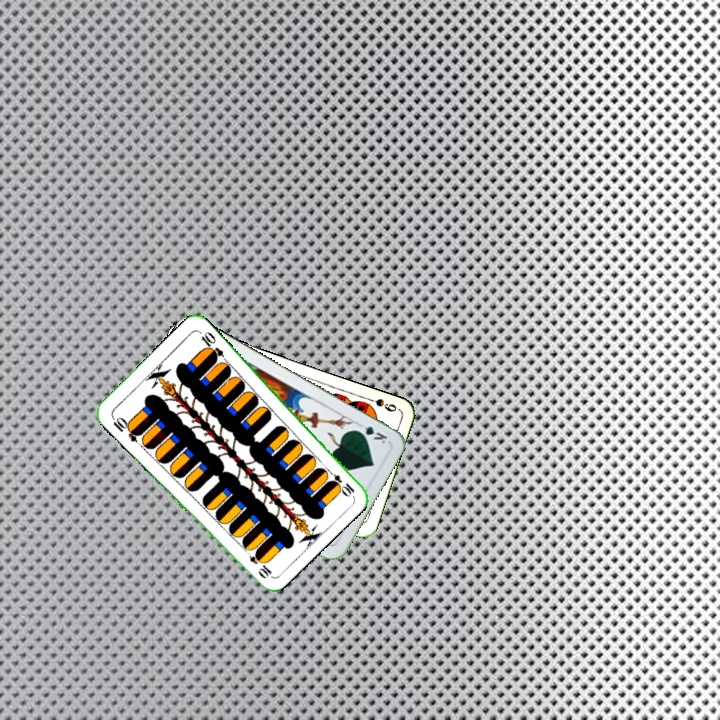E10: (322, 465, 357, 498), (107, 412, 143, 444)
GK: (351, 419, 390, 446)
S9: (361, 393, 399, 414)
